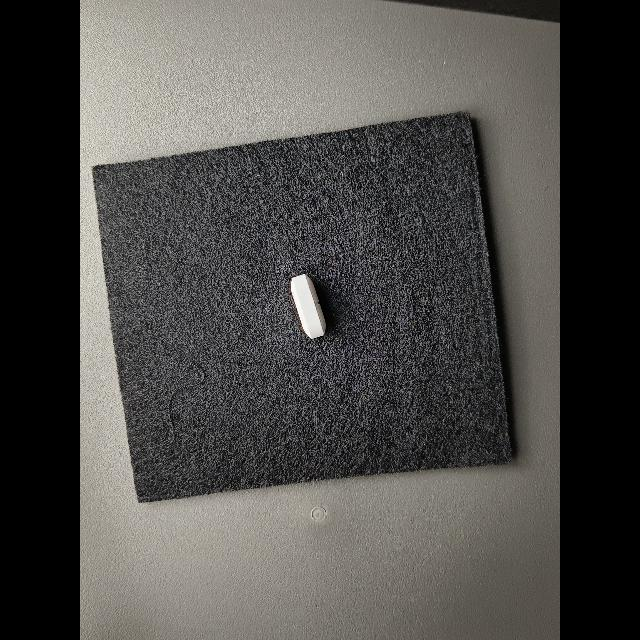Intact Pill: (291, 274, 326, 339)
